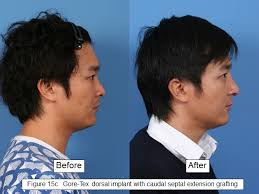asian_male: (2, 14, 115, 146)
